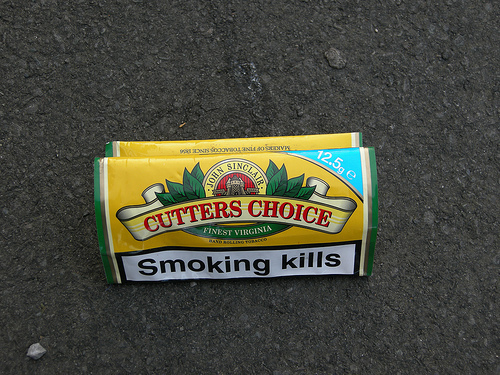litter: (91, 130, 376, 283)
